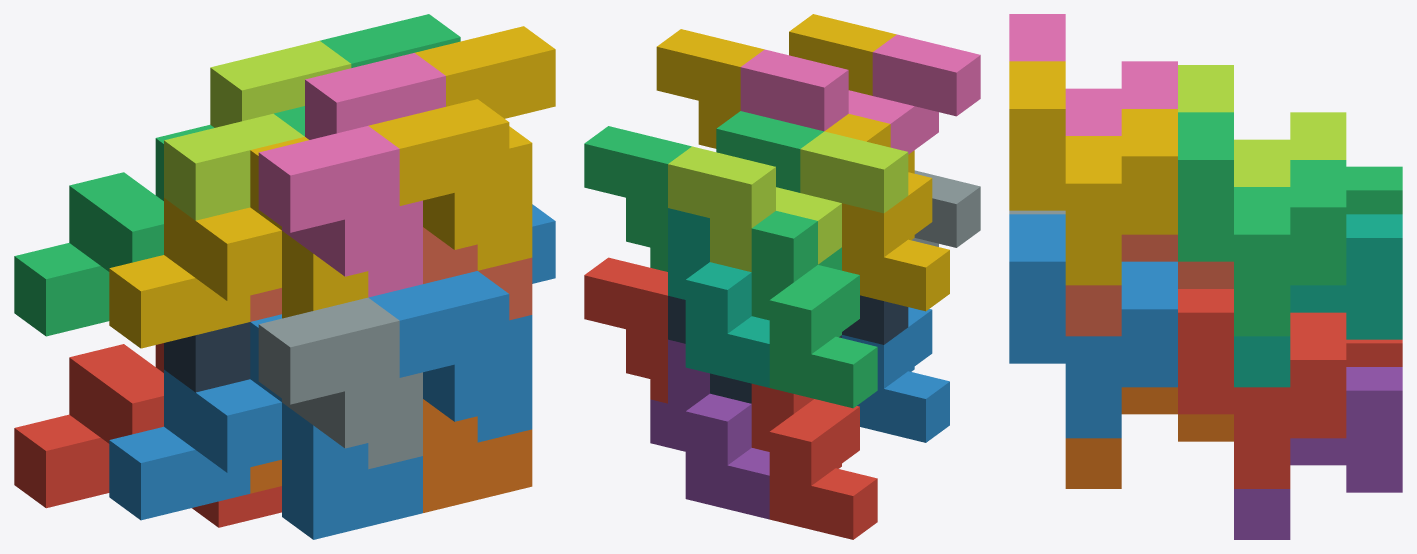
The model's file is tiling.obj.
3 renders of one model, left to right at view 1: azimuth 30°, elevation 25°; view 2: azimuth 150°, elevation 25°; view 3: azimuth 270°, elevation 25°, orthographic. The views are drawn at different scales.
Parts seen in each view (by area): view 1: copy_1_domain_2, copy_2_domain_4, copy_2_domain_8, copy_1_domain_4, copy_2_domain_6, copy_2_domain_2, copy_1_domain_1, copy_2_domain_3, copy_1_domain_3, copy_1_domain_6, copy_1_domain_8, copy_2_domain_1 (+1 smaller); view 2: copy_2_domain_3, copy_1_domain_3, copy_2_domain_4, copy_1_domain_1, copy_2_domain_7, copy_1_domain_5, copy_2_domain_8, copy_1_domain_7, copy_1_domain_4, copy_1_domain_2, copy_2_domain_5, copy_2_domain_1 (+1 smaller); view 3: copy_2_domain_8, copy_2_domain_7, copy_2_domain_6, copy_2_domain_5, copy_1_domain_7, copy_1_domain_5, copy_2_domain_4, copy_2_domain_3, copy_1_domain_8, copy_1_domain_6, copy_1_domain_3, copy_1_domain_1.
Boxes of the visible parts, x1,y1,x2,y2 form: copy_1_domain_2: [109, 314, 422, 539]; copy_2_domain_4: [258, 53, 445, 297]; copy_2_domain_8: [368, 26, 555, 270]; copy_1_domain_4: [109, 137, 368, 348]; copy_2_domain_6: [368, 204, 555, 442]; copy_2_domain_2: [258, 297, 422, 469]; copy_1_domain_1: [14, 343, 281, 527]; copy_2_domain_3: [164, 40, 351, 220]; copy_1_domain_3: [14, 125, 214, 336]; copy_1_domain_6: [250, 399, 532, 512]; copy_1_domain_8: [250, 227, 532, 321]; copy_2_domain_1: [164, 322, 250, 392]; copy_2_domain_3: [668, 131, 908, 271]; copy_1_domain_3: [751, 211, 877, 408]; copy_2_domain_4: [740, 34, 980, 154]; copy_1_domain_1: [751, 383, 877, 539]; copy_2_domain_7: [584, 111, 823, 271]; copy_1_domain_5: [650, 339, 769, 519]; copy_2_domain_8: [656, 14, 896, 148]; copy_1_domain_7: [668, 208, 769, 387]; copy_1_domain_4: [824, 113, 949, 311]; copy_1_domain_2: [842, 307, 949, 442]; copy_2_domain_5: [584, 257, 667, 403]; copy_2_domain_1: [668, 295, 908, 403]; copy_2_domain_8: [1009, 61, 1177, 285]; copy_2_domain_7: [1178, 112, 1346, 336]; copy_2_domain_6: [1009, 214, 1177, 438]; copy_2_domain_5: [1178, 289, 1346, 488]; copy_1_domain_7: [1234, 214, 1402, 387]; copy_1_domain_5: [1234, 367, 1402, 539]; copy_2_domain_4: [1009, 14, 1177, 135]; copy_2_domain_3: [1178, 65, 1346, 186]; copy_1_domain_8: [1065, 234, 1233, 336]; copy_1_domain_6: [1065, 387, 1233, 488]; copy_1_domain_3: [1346, 166, 1402, 214]; copy_1_domain_1: [1346, 339, 1402, 366].
Size of the model in its own units: 7 by 8 by 7.
